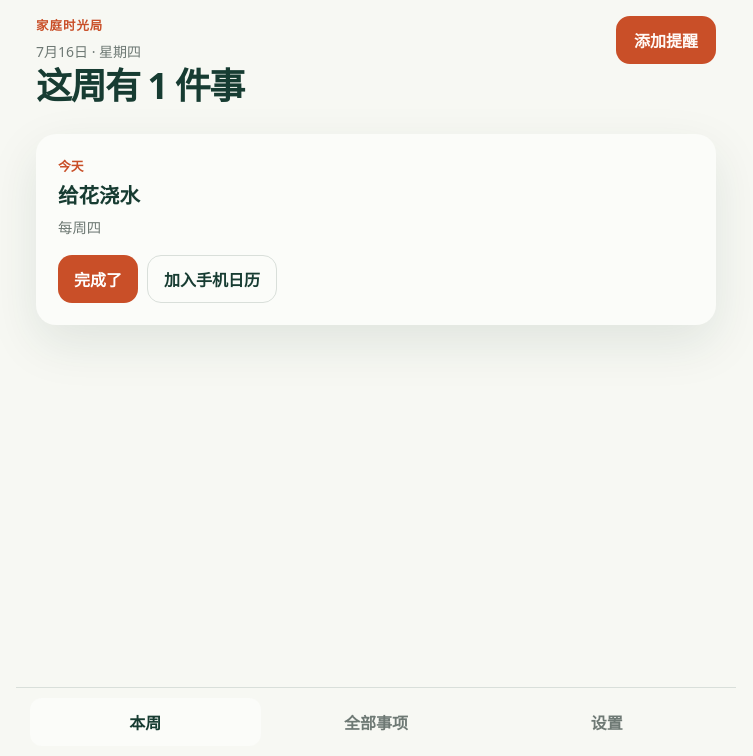
Test case: completes, edits, and deletes a reminder
This screenshot has width=753, height=756.
Click the button "完成了" at (98, 279), box [58,255,138,303]
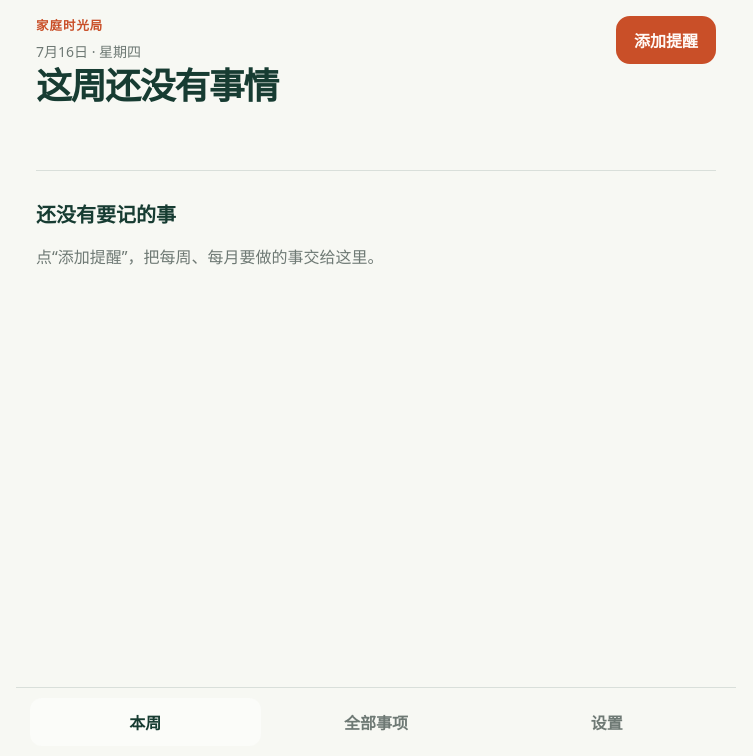
Check: the text "还没有要记的事" is shown, box [36,201,176,228]
Click the button "全部事项" at (376, 722), box [261,698,491,746]
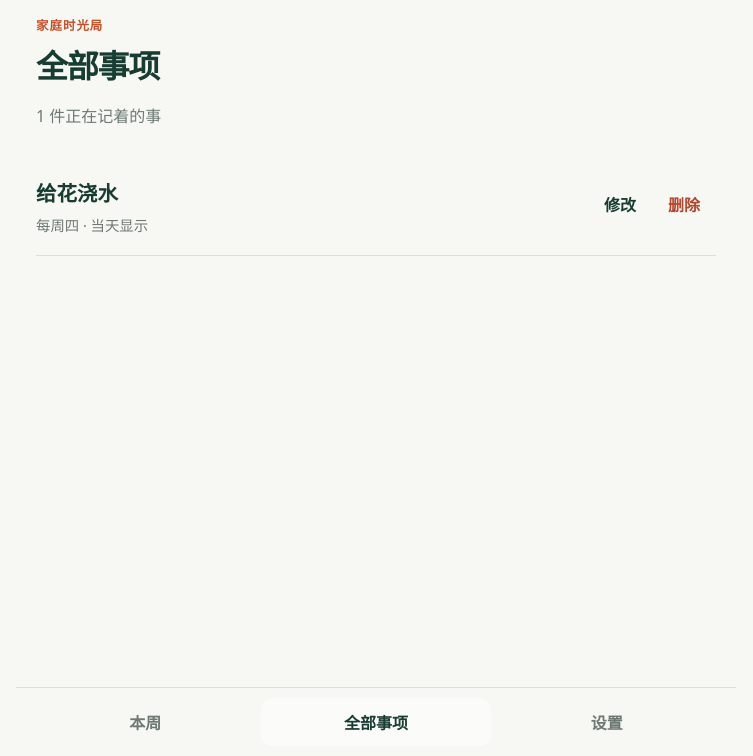
Click the button "修改" at (620, 204), box [588,182,652,226]
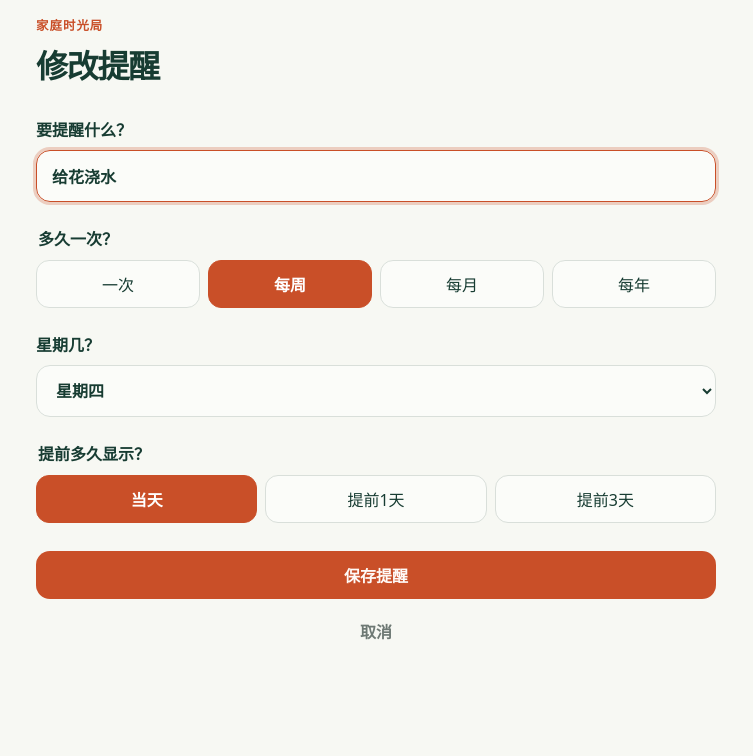
Replace the text in the field labelled "要提醒什么？" with "周六给花浇水" at (376, 176), box [36,150,716,202]
Click the button "保存提醒" at (376, 575), box [36,551,716,599]
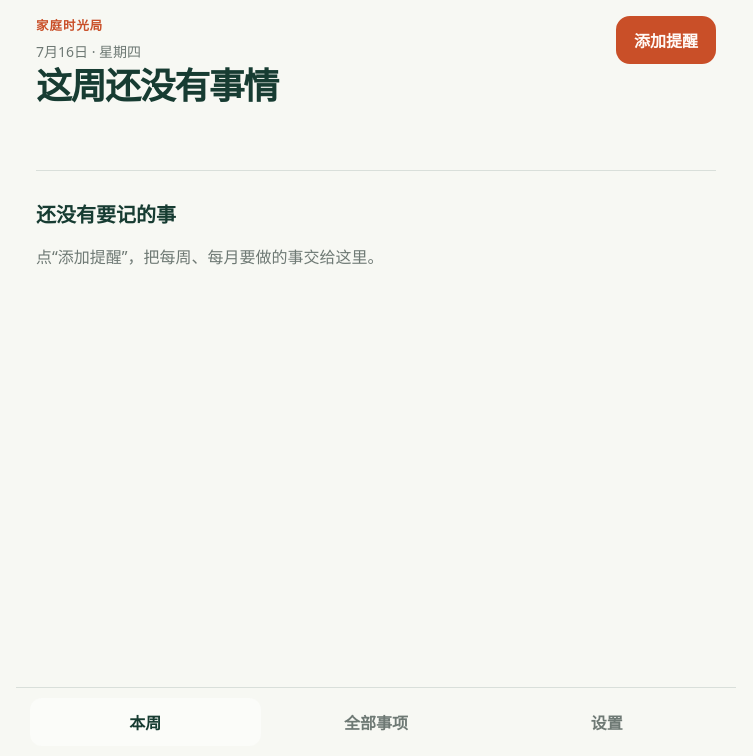
Click the button "全部事项" at (376, 722), box [261,698,491,746]
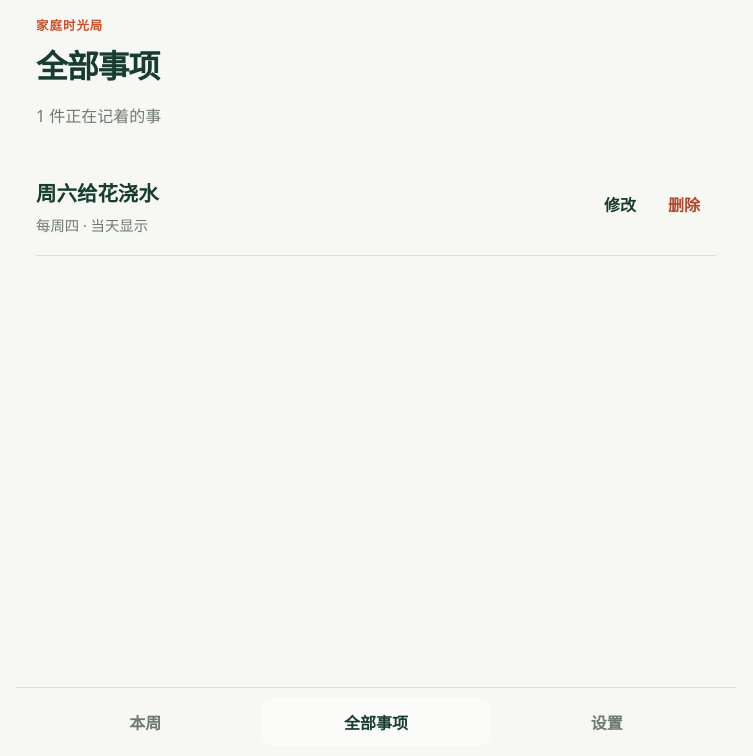
Check: the heading "周六给花浇水" is shown, box [36,177,159,207]
Click the button "删除" at (684, 204), box [652,182,716,226]
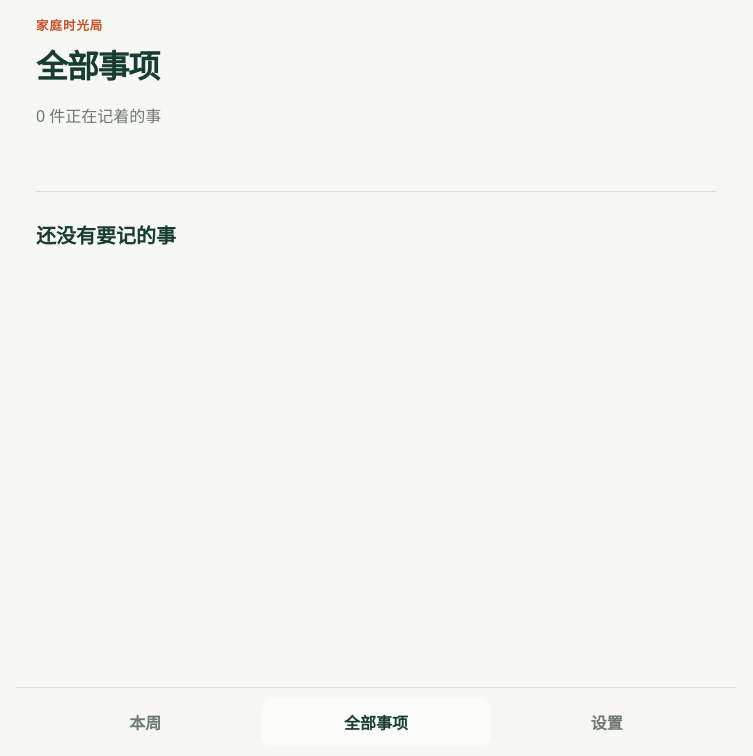
Check: the text "还没有要记的事" is shown, box [36,222,176,249]
